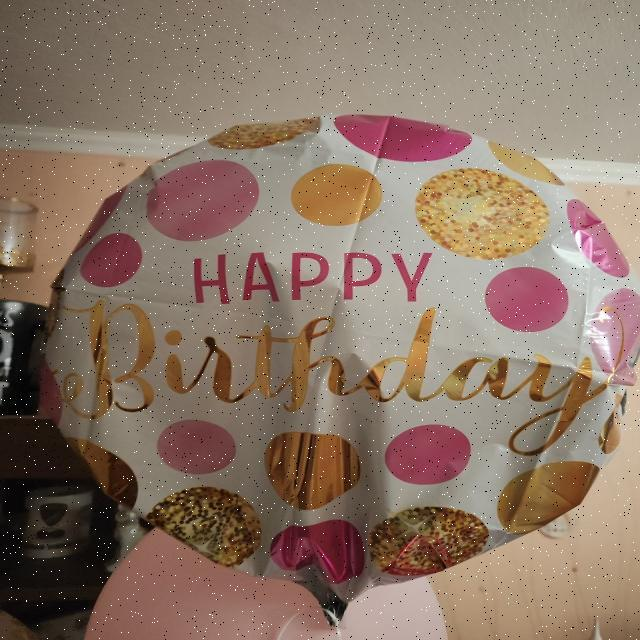Circle: (49, 112, 639, 590), (413, 168, 552, 256), (144, 160, 263, 243), (482, 263, 570, 337), (290, 161, 386, 228), (386, 418, 474, 487), (154, 416, 246, 479)
